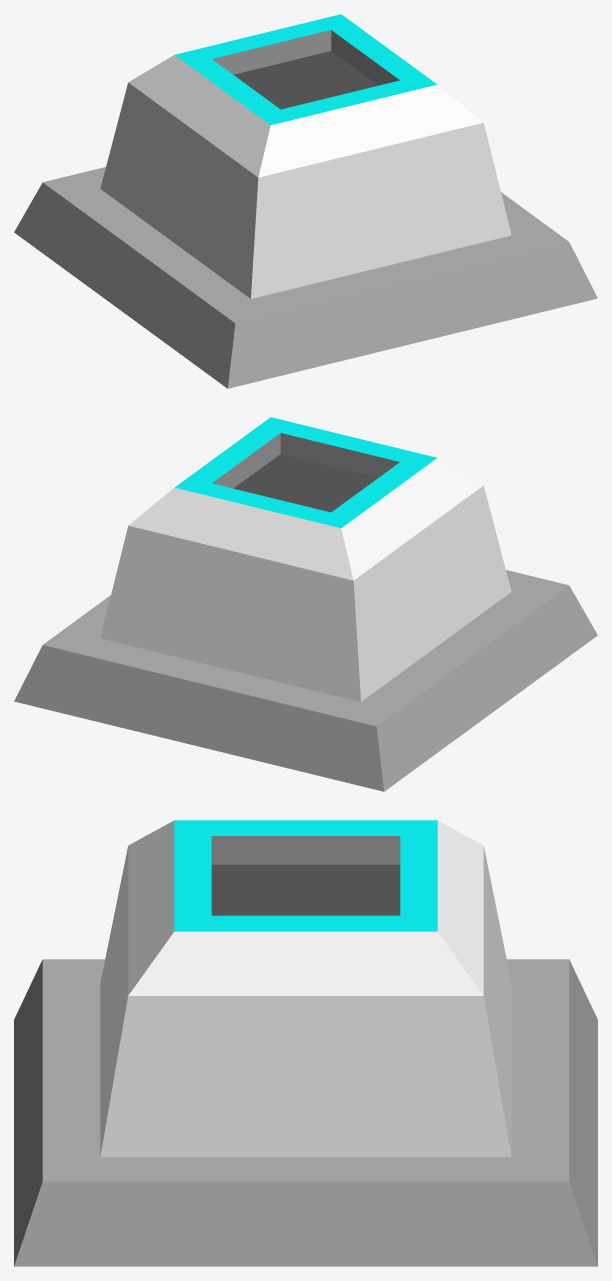
File: Depot.fbx
3 views of the same model, one above another, from view 1: azimuth 30°, elevation 25°; view 2: azimuth 150°, elevation 25°; view 3: azimuth 270°, elevation 25° (orthographic). The views are drawn at different scales.
Visible parts, largest first — view 1: Depot; view 2: Depot; view 3: Depot.
Part boxes in pixels (box(x1,y1,x2,y2)): Depot: box(14, 14, 597, 388); Depot: box(14, 417, 597, 791); Depot: box(14, 820, 597, 1266).
Bounding box in the file's own units: 261 × 132 × 261.
